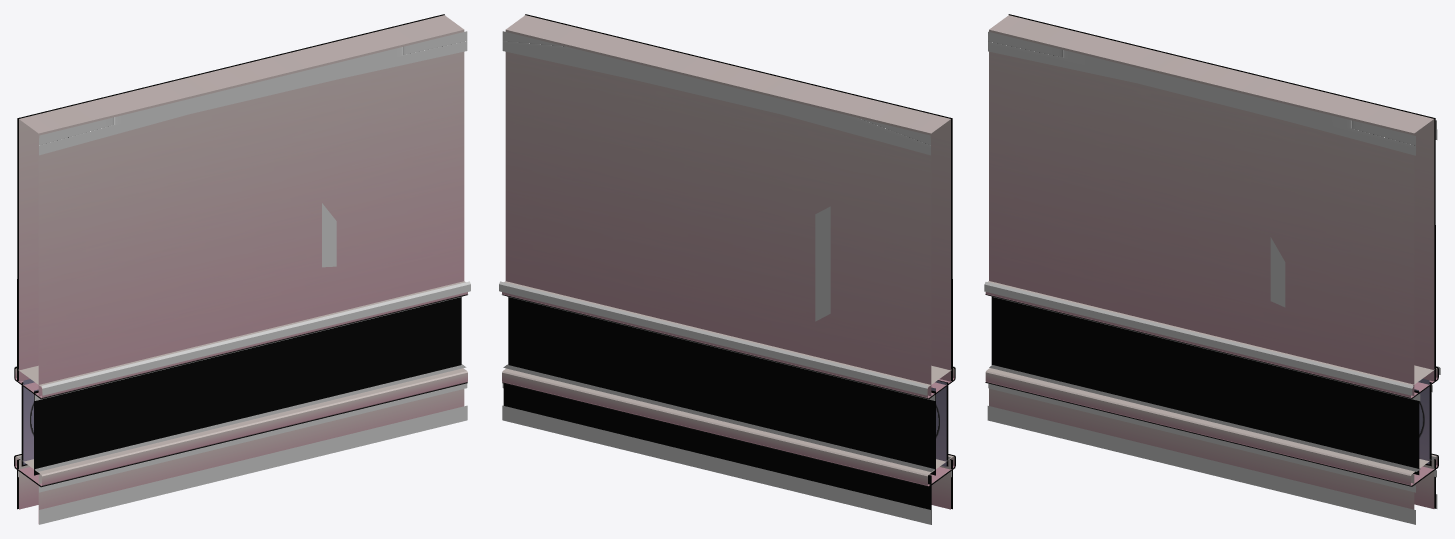
The model's file is Rooms_Paradise_Wall01_Art.fbx.
The picture shows the model from 3 angles, left to right: view 1: azimuth 30°, elevation 25°; view 2: azimuth 150°, elevation 25°; view 3: azimuth 330°, elevation 25°; orthographic projection.
Parts seen in each view (by area): view 1: Rooms_Paradise_Wall01_Art, Rooms_Paradise_Wall01_Outliner, Rooms_Paradise_Wall01_Shadows; view 2: Rooms_Paradise_Wall01_Art, Rooms_Paradise_Wall01_Outliner, Rooms_Paradise_Wall01_Shadows; view 3: Rooms_Paradise_Wall01_Art, Rooms_Paradise_Wall01_Outliner, Rooms_Paradise_Wall01_Shadows.
Boxes of the visible parts, box(x1,y1,x2,y2) form: Rooms_Paradise_Wall01_Art: box(15, 15, 467, 523); Rooms_Paradise_Wall01_Outliner: box(14, 14, 467, 509); Rooms_Paradise_Wall01_Shadows: box(14, 31, 470, 524); Rooms_Paradise_Wall01_Art: box(502, 15, 954, 509); Rooms_Paradise_Wall01_Outliner: box(502, 14, 955, 524); Rooms_Paradise_Wall01_Shadows: box(499, 31, 955, 524); Rooms_Paradise_Wall01_Art: box(985, 15, 1437, 509); Rooms_Paradise_Wall01_Outliner: box(985, 14, 1438, 508); Rooms_Paradise_Wall01_Shadows: box(984, 31, 1440, 524).
Size of the model in its own units: 403 by 351 by 46.11.
